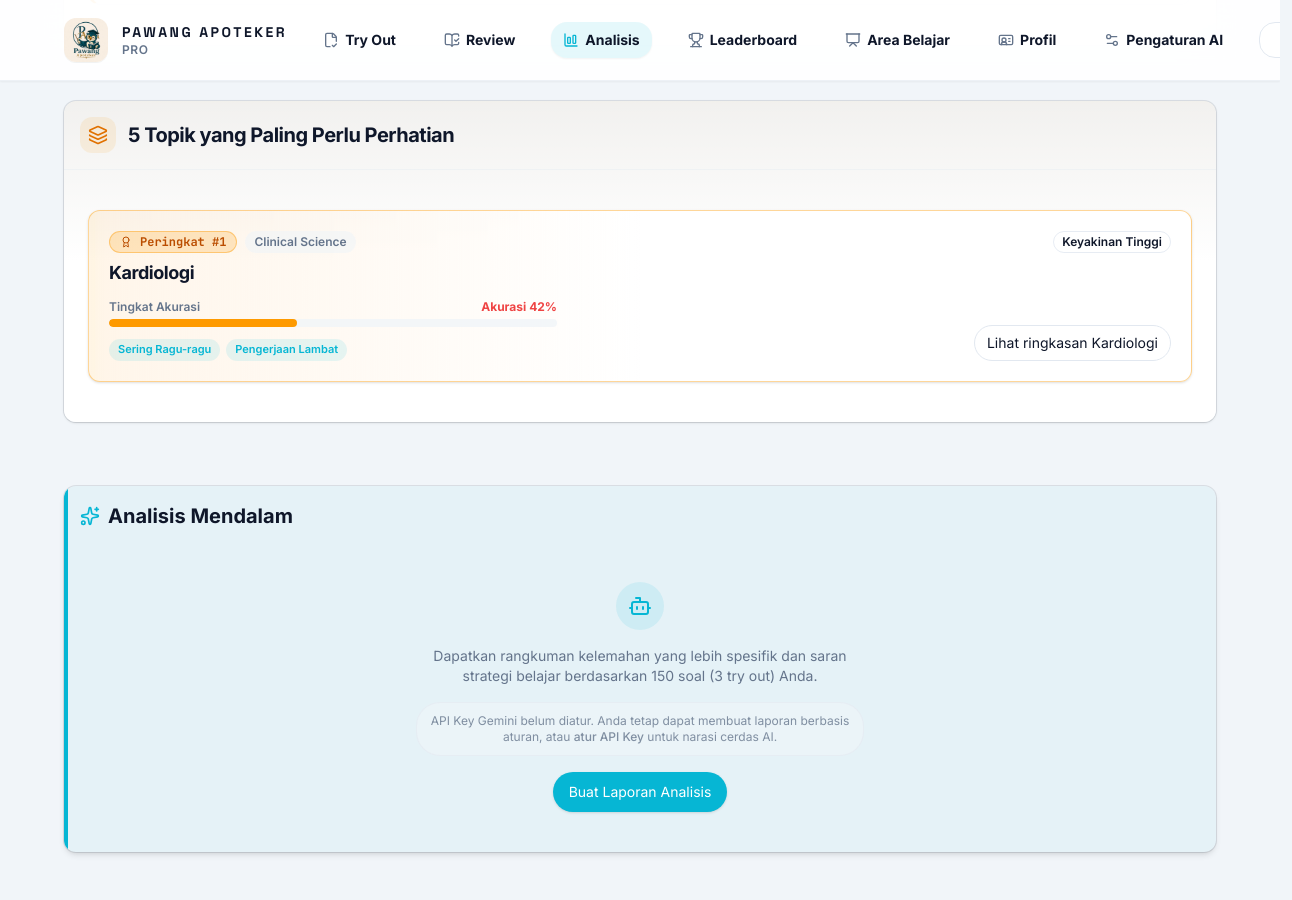
Analytics page › student without API key can generate a rules-based report
This screenshot has width=1292, height=900.
(page scrolled)
Student clicks the button
Click the button "Buat Laporan Analisis" at (640, 792), box [553,772,727,812]
(page scrolled)
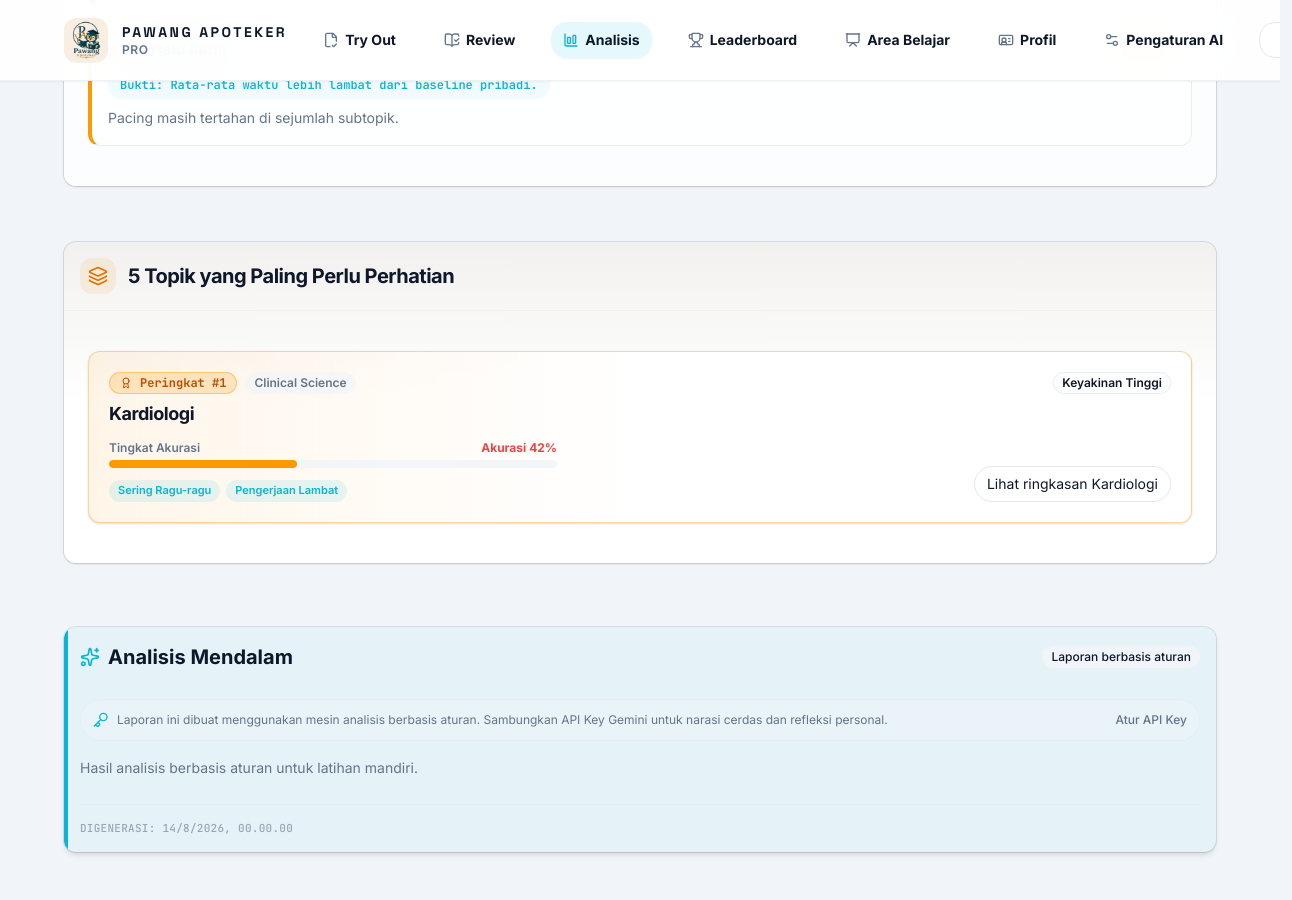
Expected: the text "Laporan berbasis aturan" is shown, [1042,646,1200,668]
Expected: the text "Hasil analisis berbasis aturan untuk latihan mandiri." is shown, [80,759,418,776]
Expected: the text "sambungkan api key gemini" is shown, [117,712,888,727]
